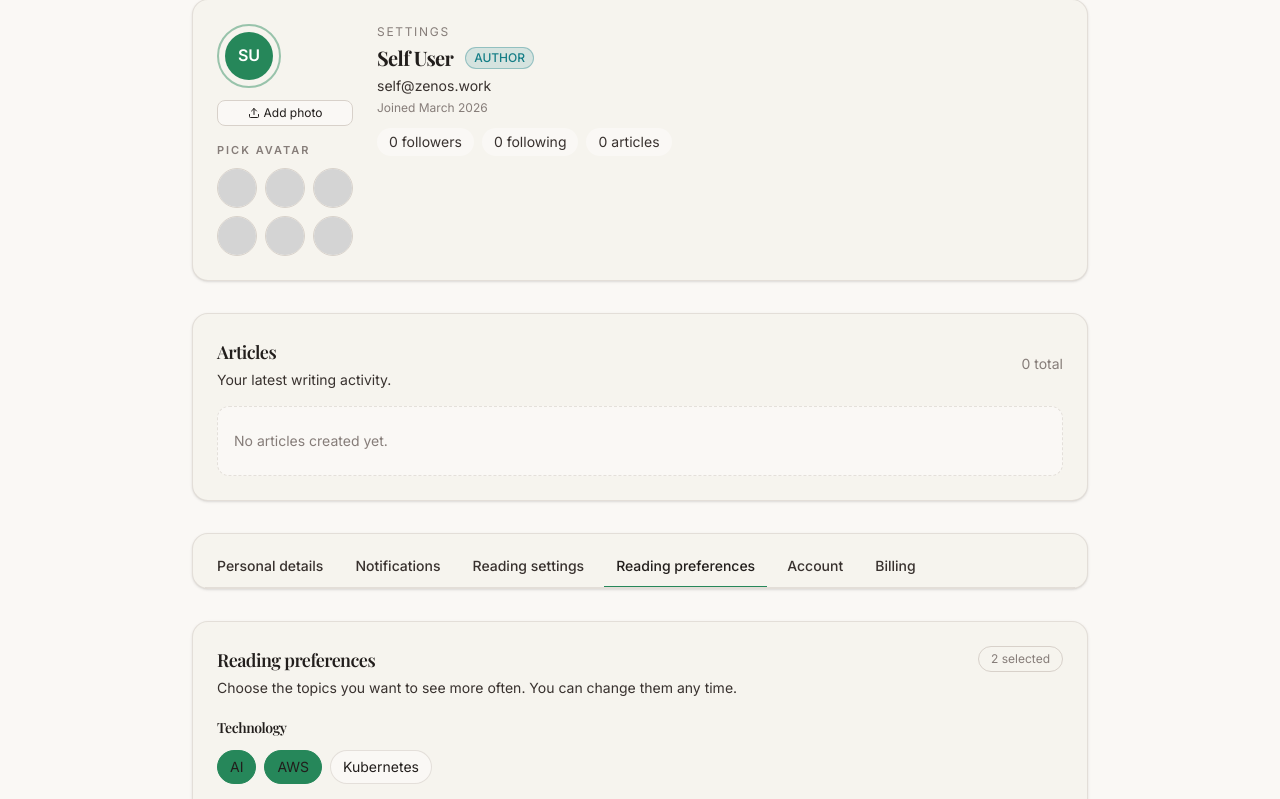
Test case: ProfilePage › allows updating reading preferences on own profile
The image size is (1280, 799).
Expected: the button "Reading preferences" is shown, [604,546,767,588]
Click the button "Kubernetes" at (381, 767), box [330,750,432,784]
(page scrolled)
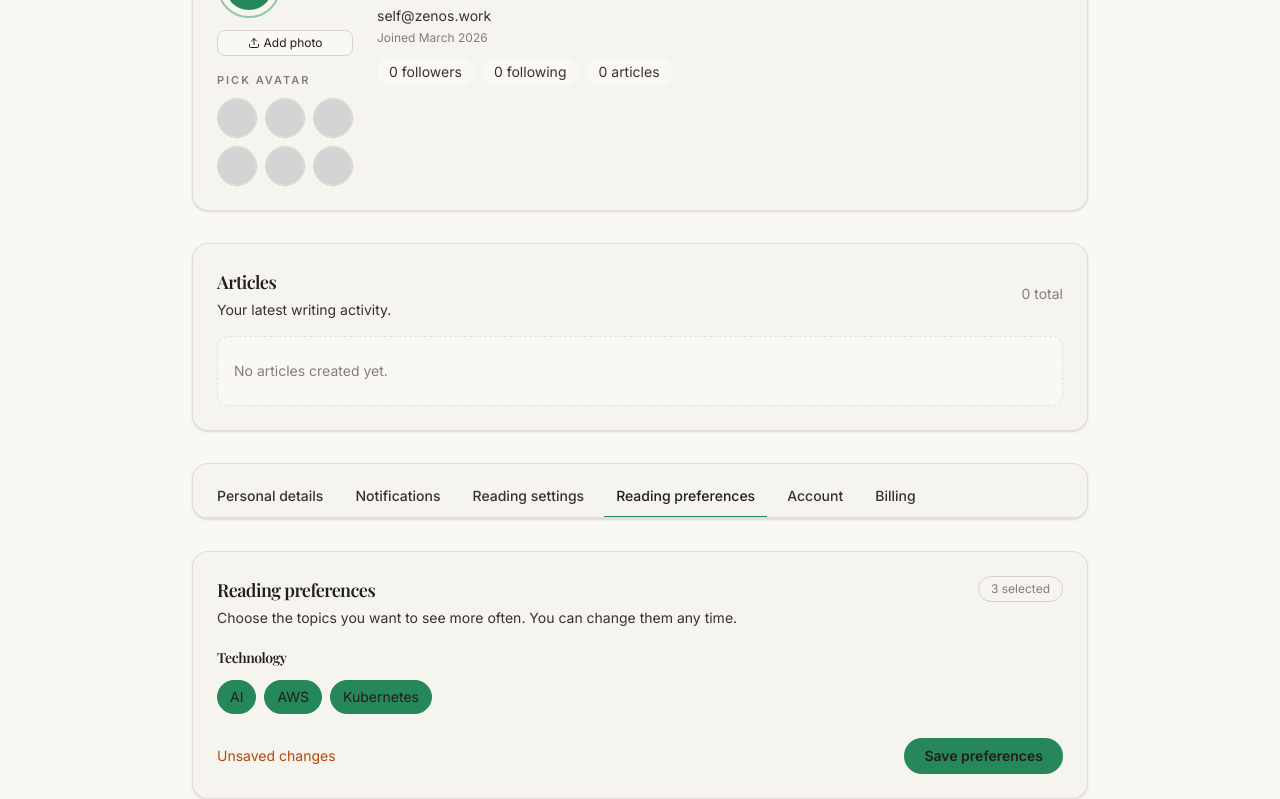
Result: the text "Unsaved changes" is shown at [217,746,336,766]
Result: the button "Save preferences" is enabled
Click the button "Save preferences" at (984, 756), box [904,738,1063,774]
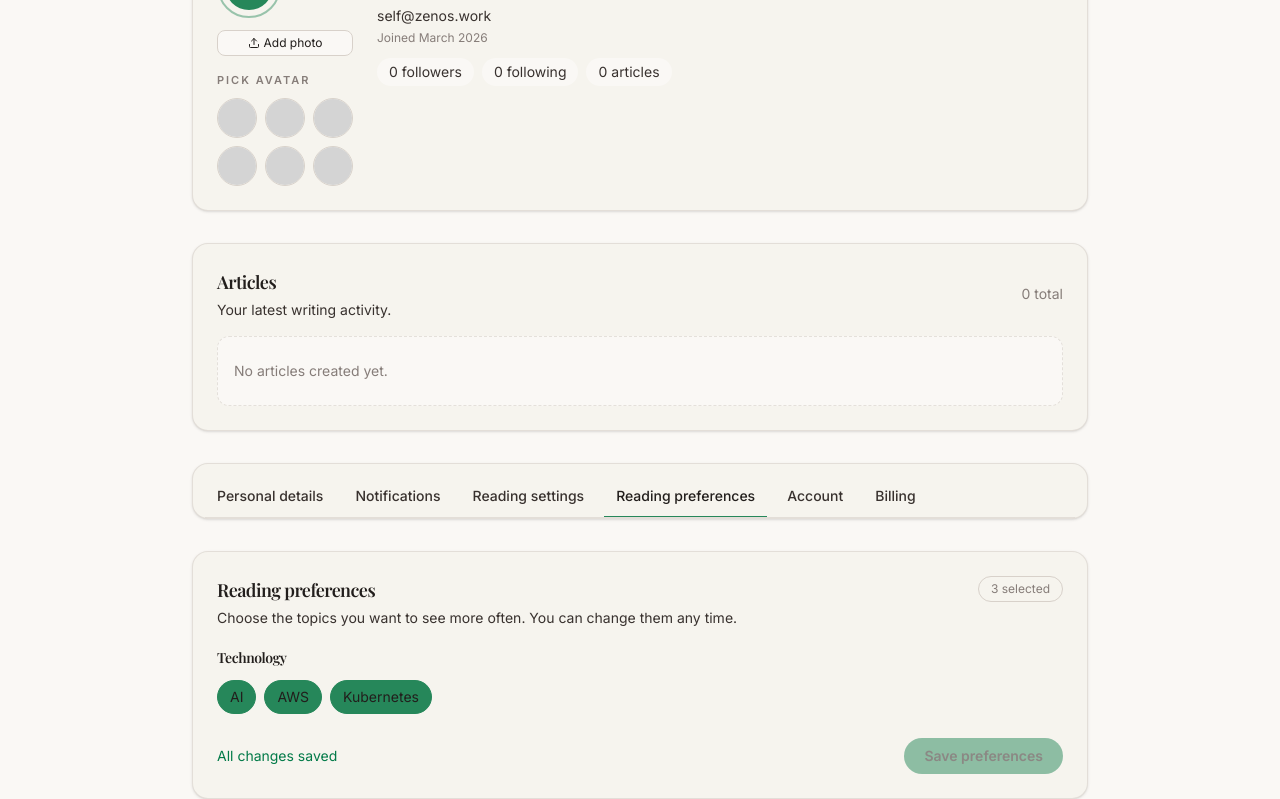
Result: the text "All changes saved" is shown at [217,746,337,766]
Result: the button "Save preferences" is disabled at [904,738,1063,774]
